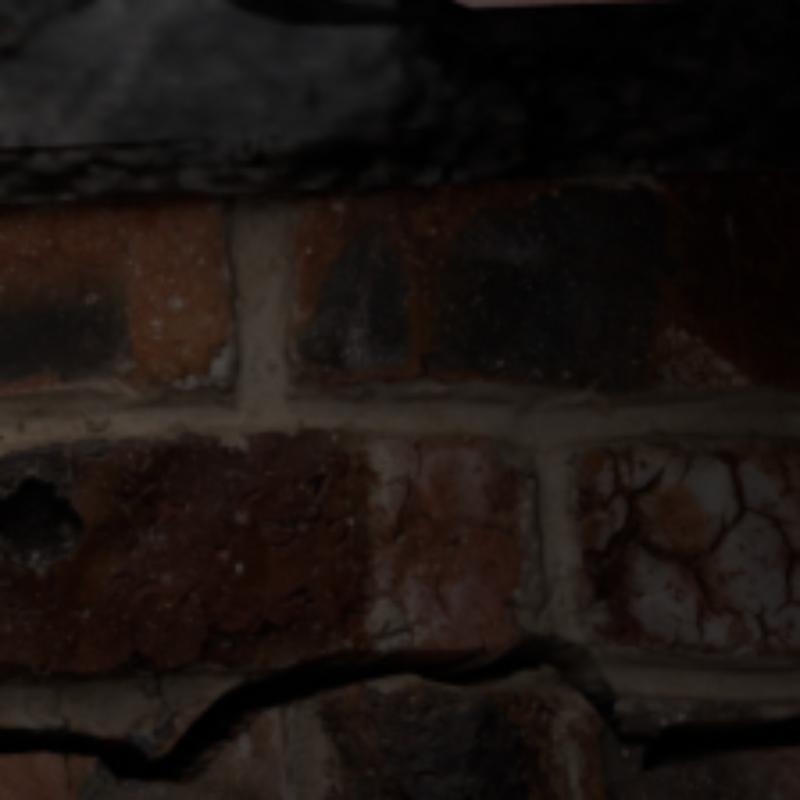pothole: (0, 632, 796, 782), (600, 454, 796, 614)
